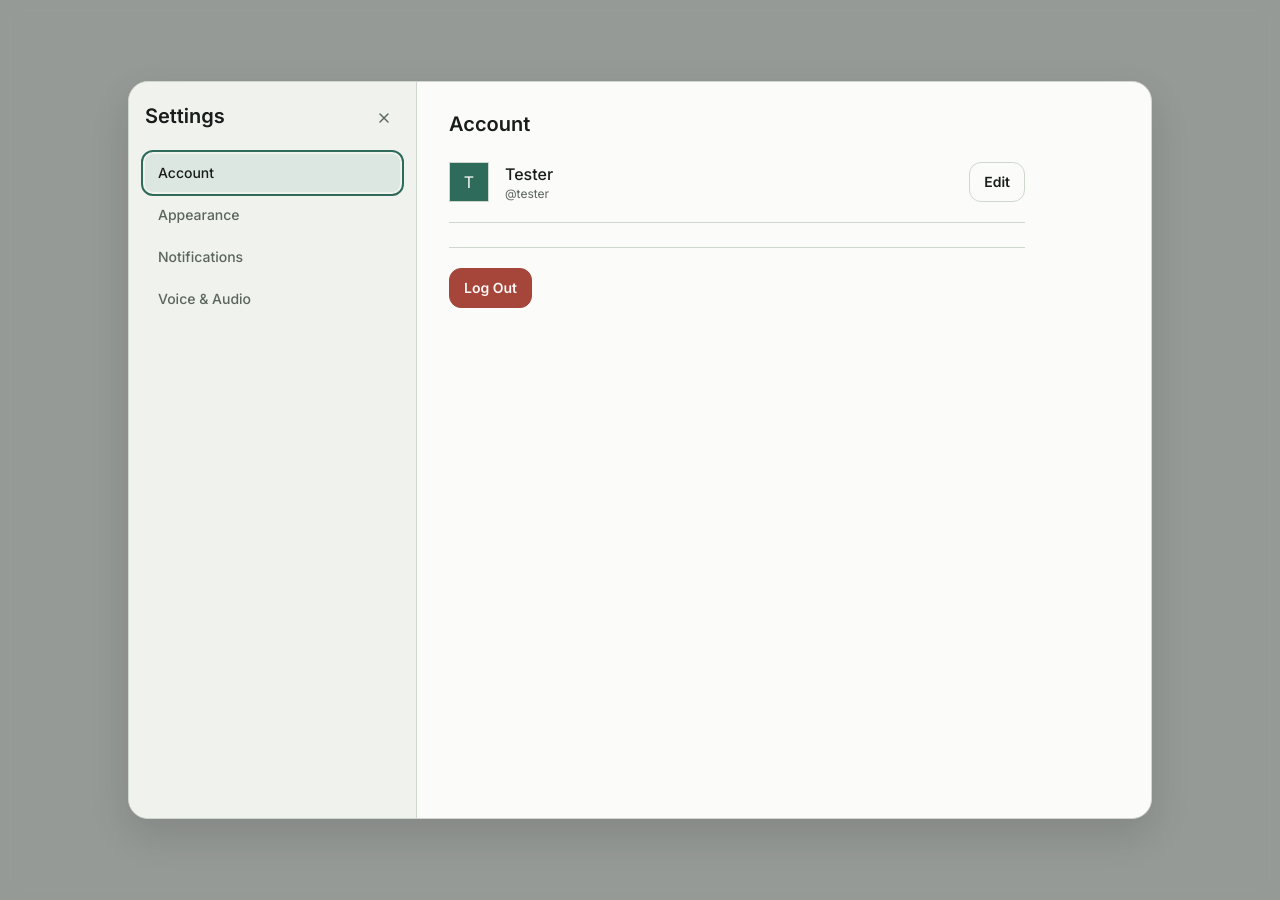
Test case: SettingsPage audio settings › renders microphone processing toggles and helper text
The width and height of the screenshot is (1280, 900).
Click the tab "Voice & Audio": {"x": 272, "y": 299} [145, 280, 400, 318]
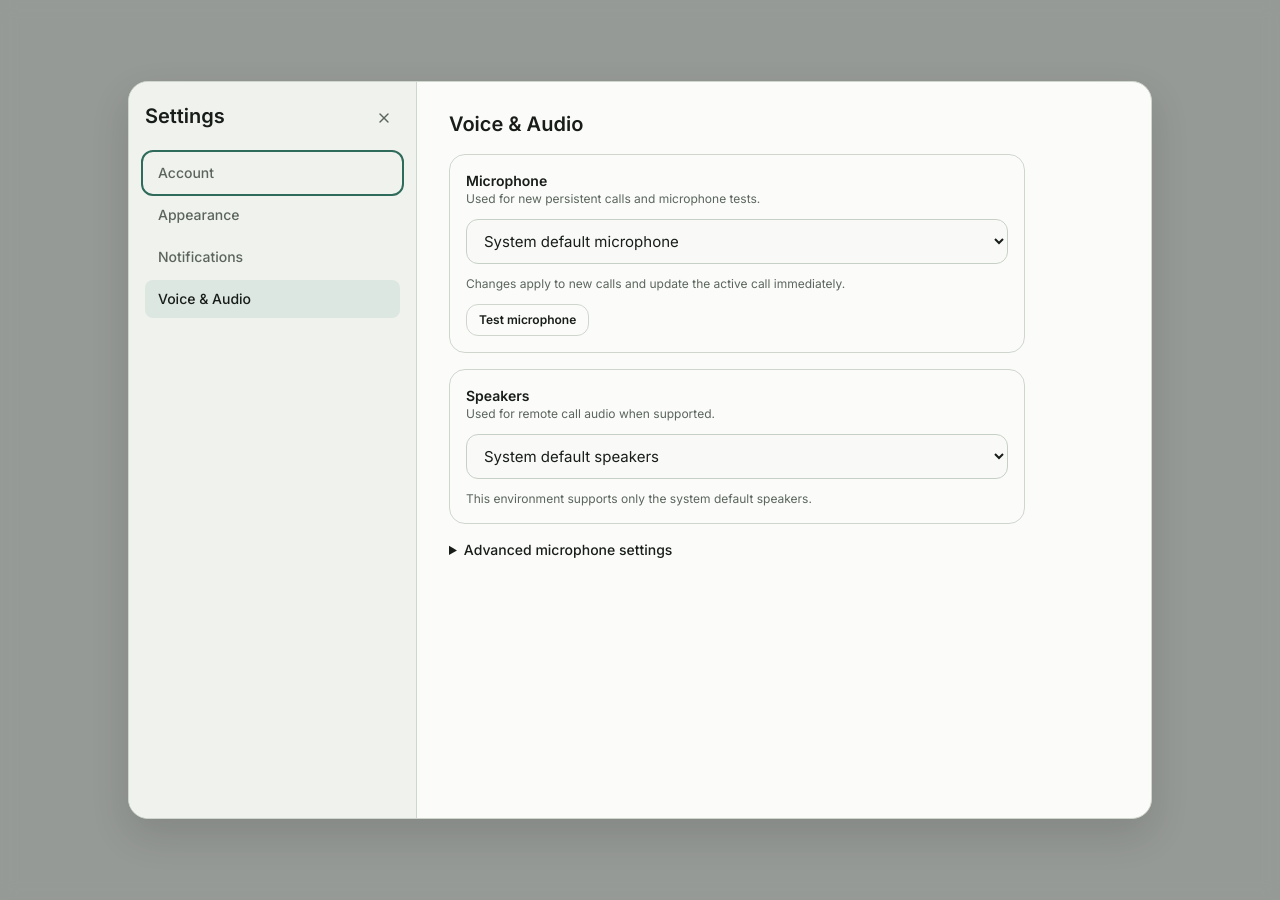
Now the text "This environment supports only the system default speakers." is shown, box [466, 491, 812, 506]
Now the text "Changes apply to new calls and update the active call immediately" is shown, box [466, 276, 845, 291]
